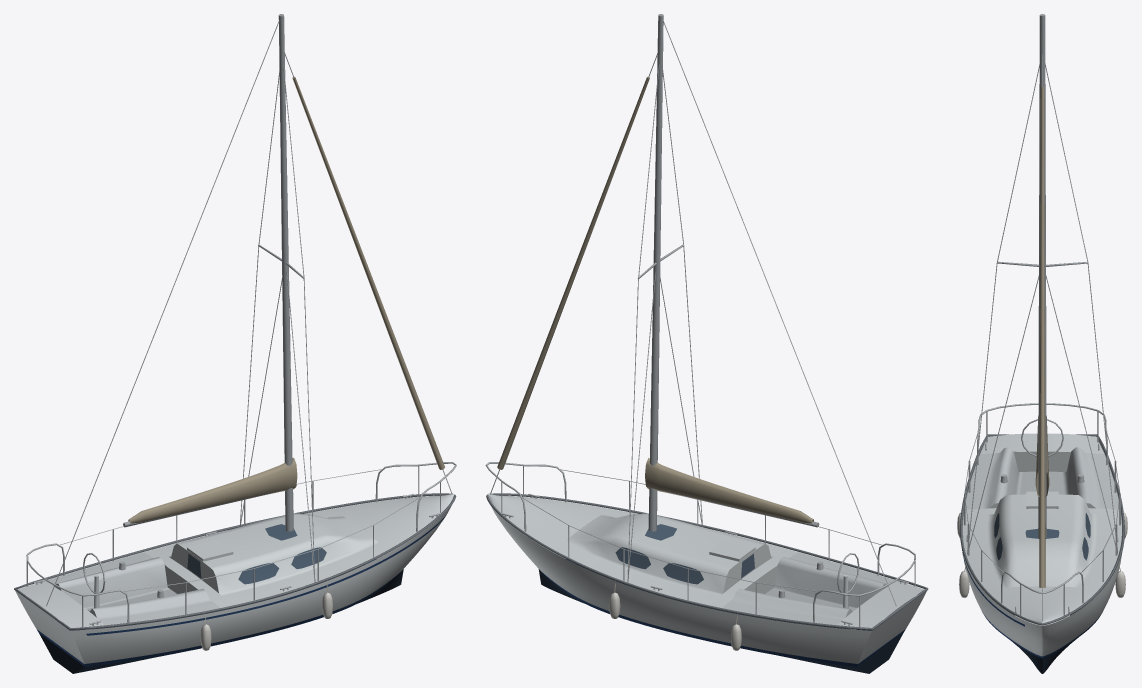
File: sailboat.glb
3 views of the same model, side by side, from view 1: azimuth 30°, elevation 25°; view 2: azimuth 150°, elevation 25°; view 3: azimuth 270°, elevation 25° (orthographic).
Parts seen in each view (by area): view 1: sail-lod0; view 2: sail-lod0; view 3: sail-lod0.
Part boxes in pixels (x1=…): sail-lod0: x1=14, y1=14, x2=456, y2=673; sail-lod0: x1=485, y1=14, x2=928, y2=673; sail-lod0: x1=957, y1=14, x2=1127, y2=673.
Size of what is drawn, in the model's own units: 8.27 by 11.43 by 2.94.
